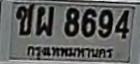4: (115, 10, 129, 39)
6: (82, 9, 96, 37)
8: (64, 8, 79, 37)
9: (99, 9, 113, 37)
A10: (15, 4, 34, 36)
A28: (36, 6, 54, 36)
BKK: (24, 43, 114, 61)
